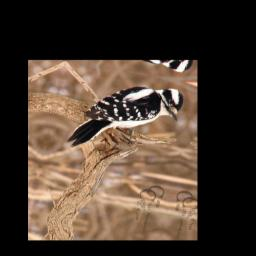Woodpecker: (62, 71, 187, 166)
